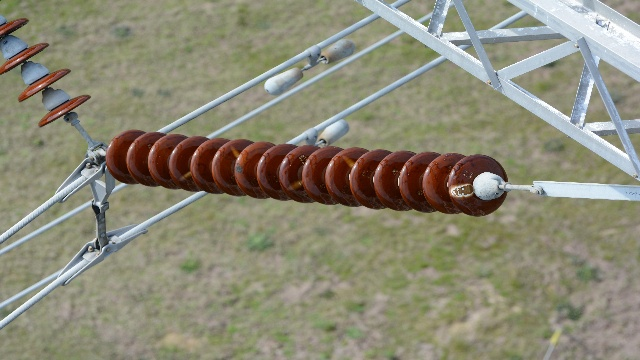insulator_unspecified: (108, 130, 504, 215), (0, 17, 90, 127)
pollution_flashover_local: (449, 183, 475, 196), (287, 177, 304, 191), (342, 153, 355, 168), (177, 171, 192, 183), (229, 143, 241, 157)
